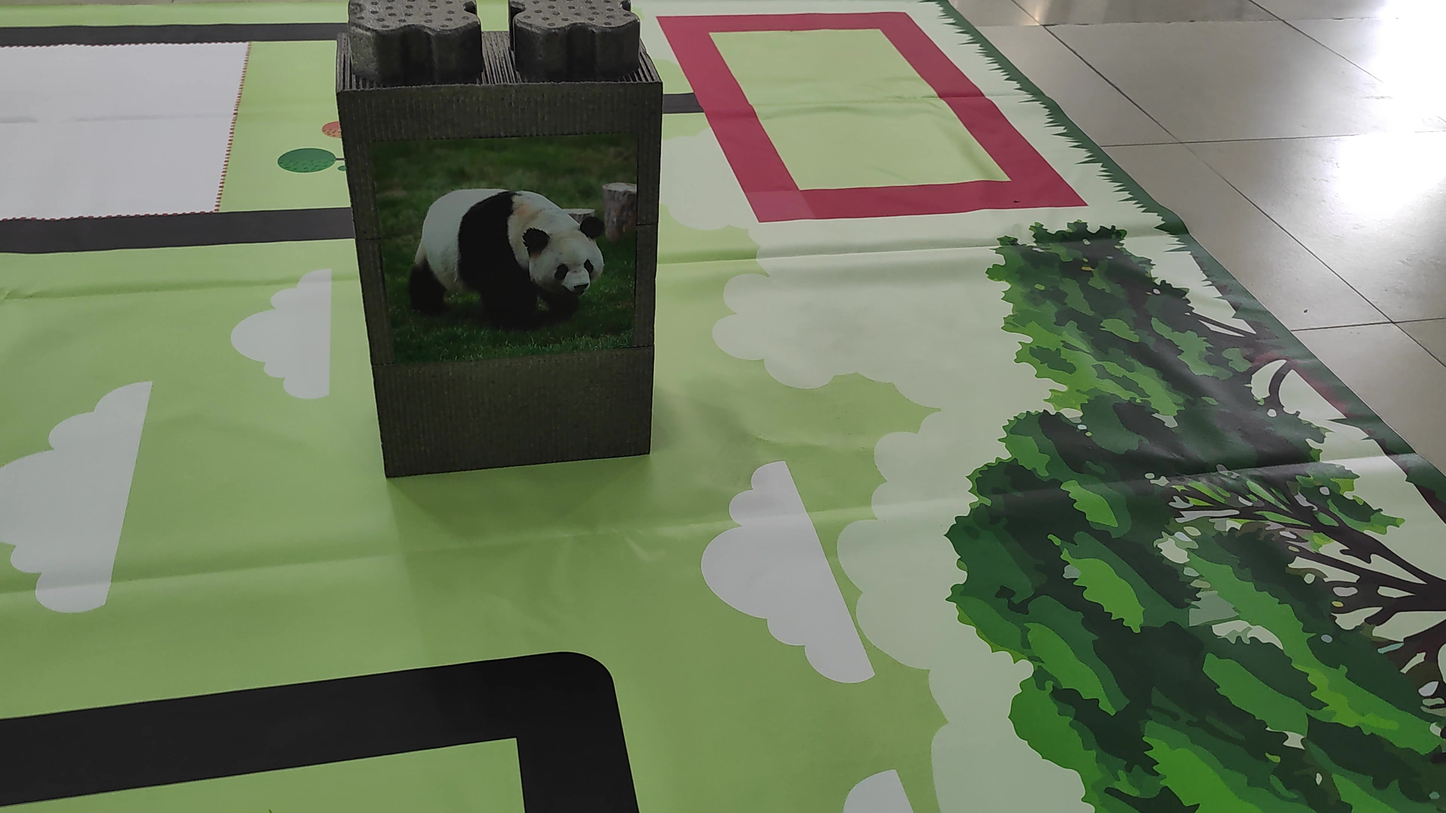panda: (389, 150, 623, 355)
